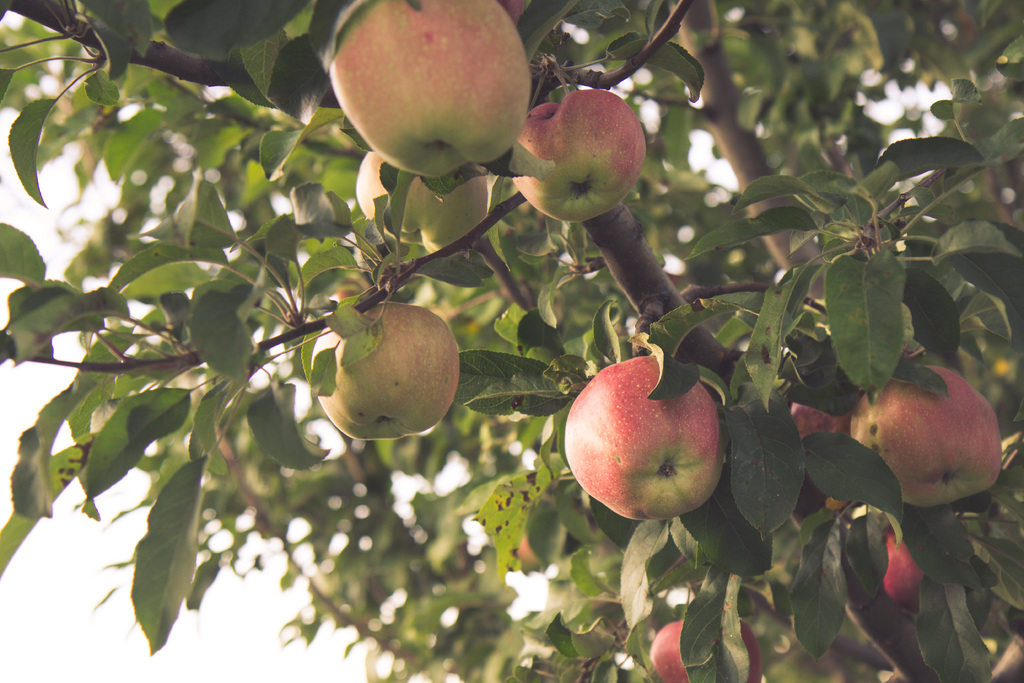Apple: (339, 10, 533, 176), (567, 353, 728, 524), (309, 300, 463, 439), (853, 362, 994, 509), (504, 85, 647, 225), (354, 146, 489, 258), (645, 617, 764, 682), (881, 526, 931, 608), (784, 390, 856, 440)
